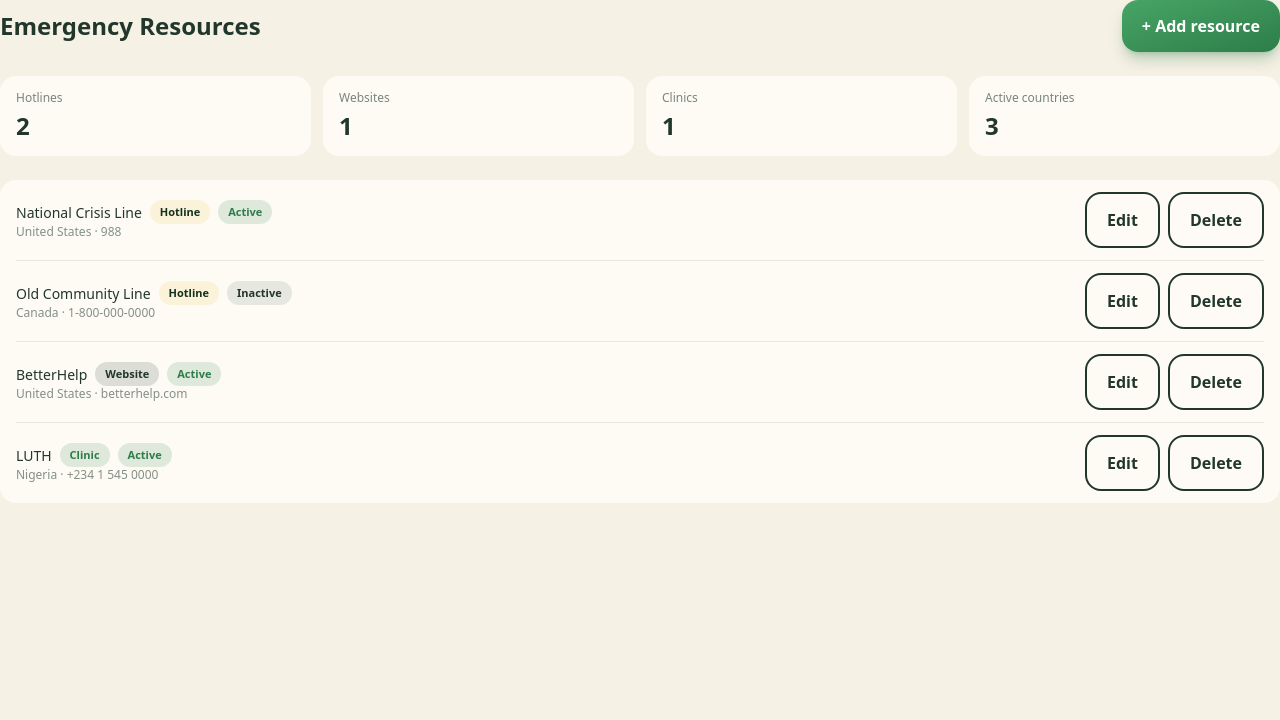
AdminEmergencyPage › opening the sheet › opens AdminEmergencyResourceSheet in create mode (empty form) when "+ Add resource" is clicked
The image size is (1280, 720).
Step 1. Click the button "+ Add resource" → [1201, 26], box [1122, 0, 1279, 52]
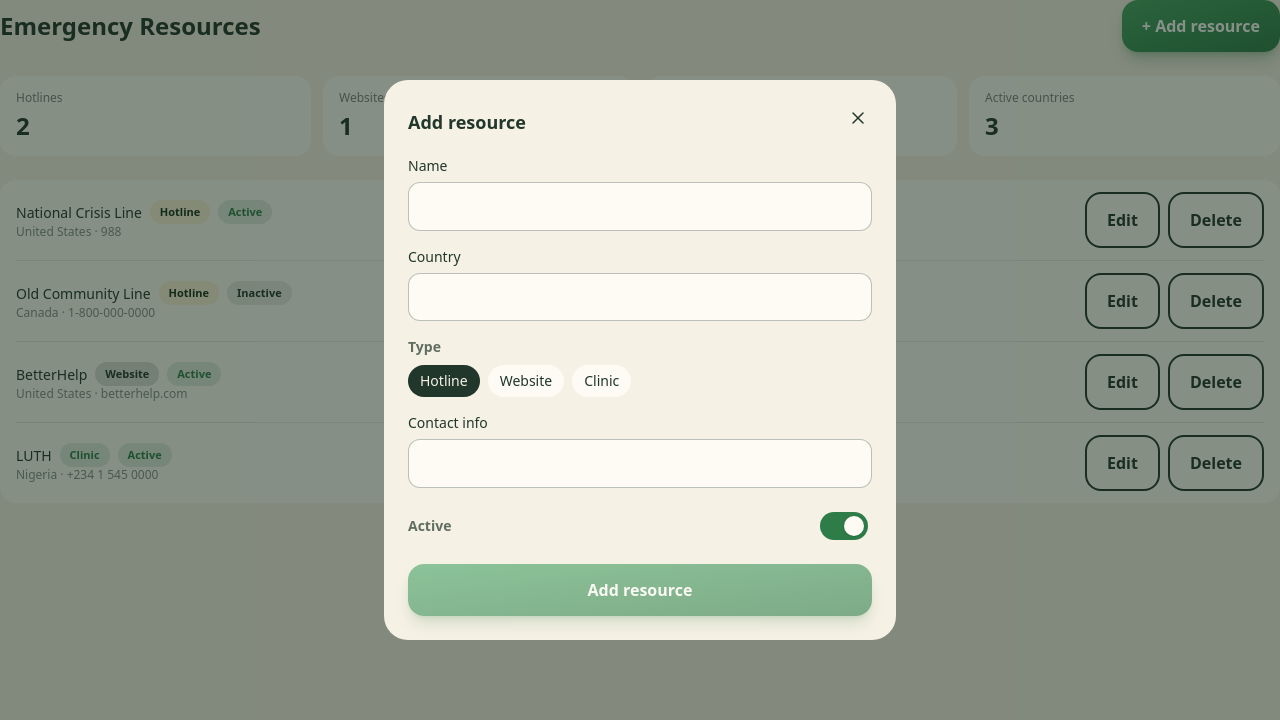
Check: the field labelled "Name" is empty, box [408, 182, 872, 231]
Check: the dialog "Add resource" is shown, box [384, 80, 896, 640]
Check: the field labelled "Country" is empty, box [408, 273, 872, 321]
